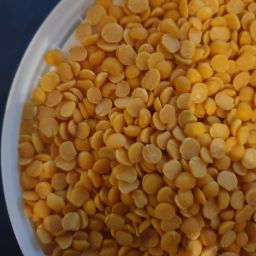Pigeon Pea(toor daal): (33, 2, 256, 256)
